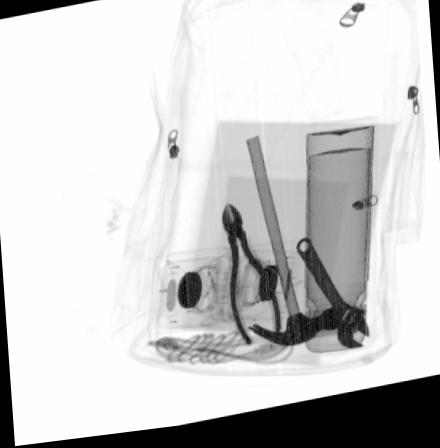Hammer: (244, 141, 341, 354)
Pliers: (219, 209, 282, 352)
Wrench: (296, 244, 368, 359)
